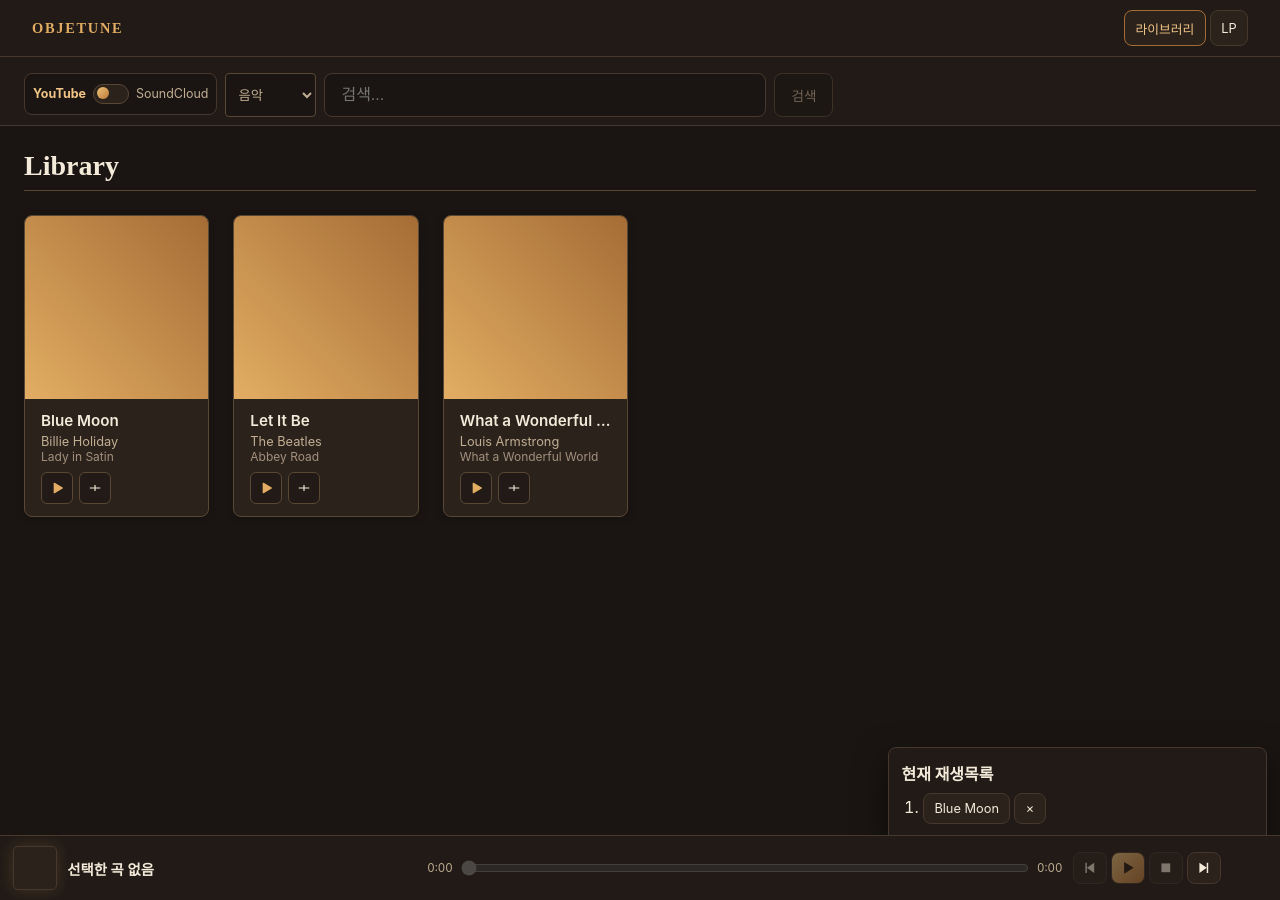
Scenario: App › shows queued tracks from the bottom button and keeps the queue across modes
Earlier steps of the test are not shown.
expect the element "현재 재생목록" is shown: met, box top-left (888, 747), bottom-right (1267, 846)
Click the button "LP": (1229, 28) top-left (1210, 10), bottom-right (1248, 46)
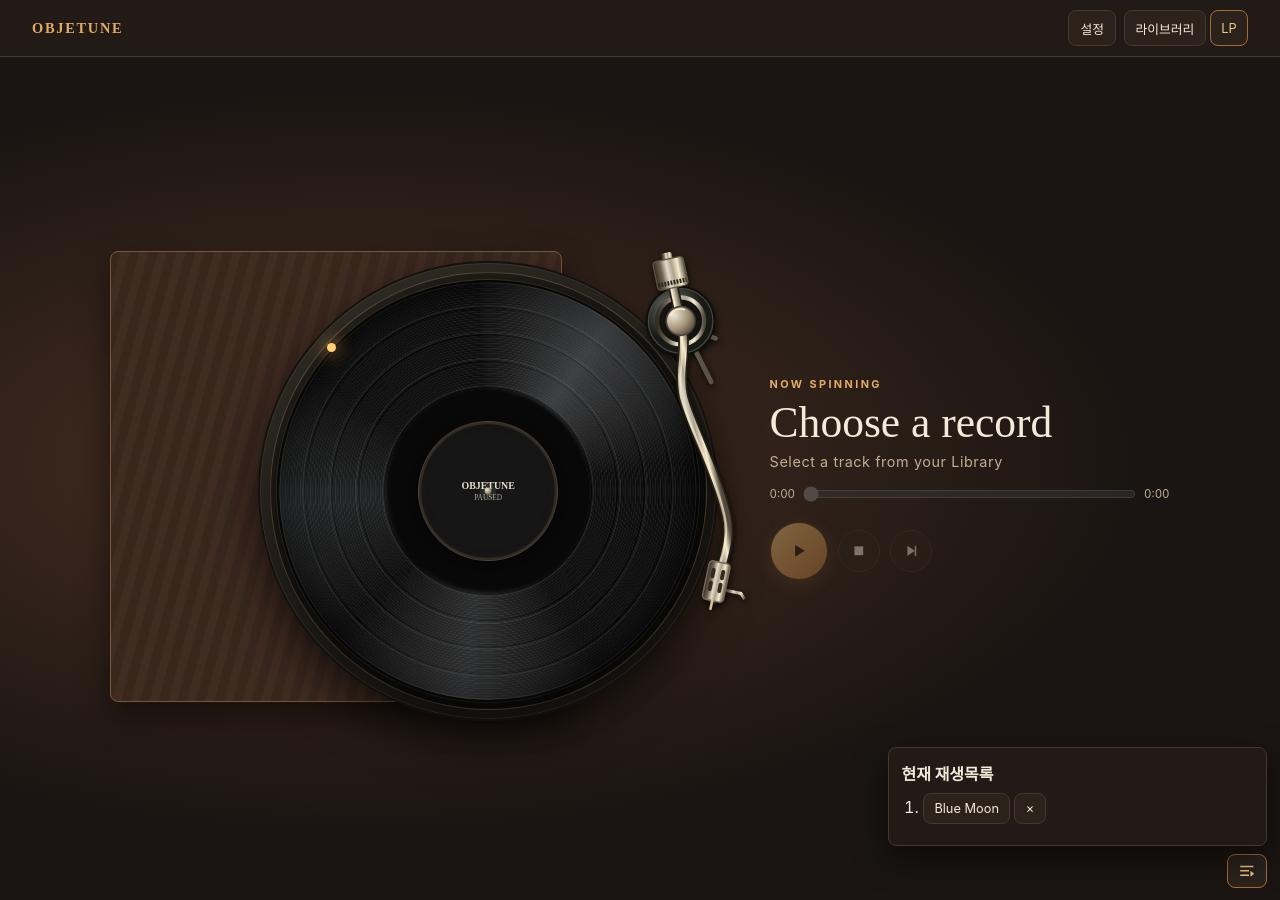
expect the element named "Turntable" is shown: met
Click the button named "Blue Moon 대기열에서 제거": (1030, 809) top-left (1014, 793), bottom-right (1046, 824)
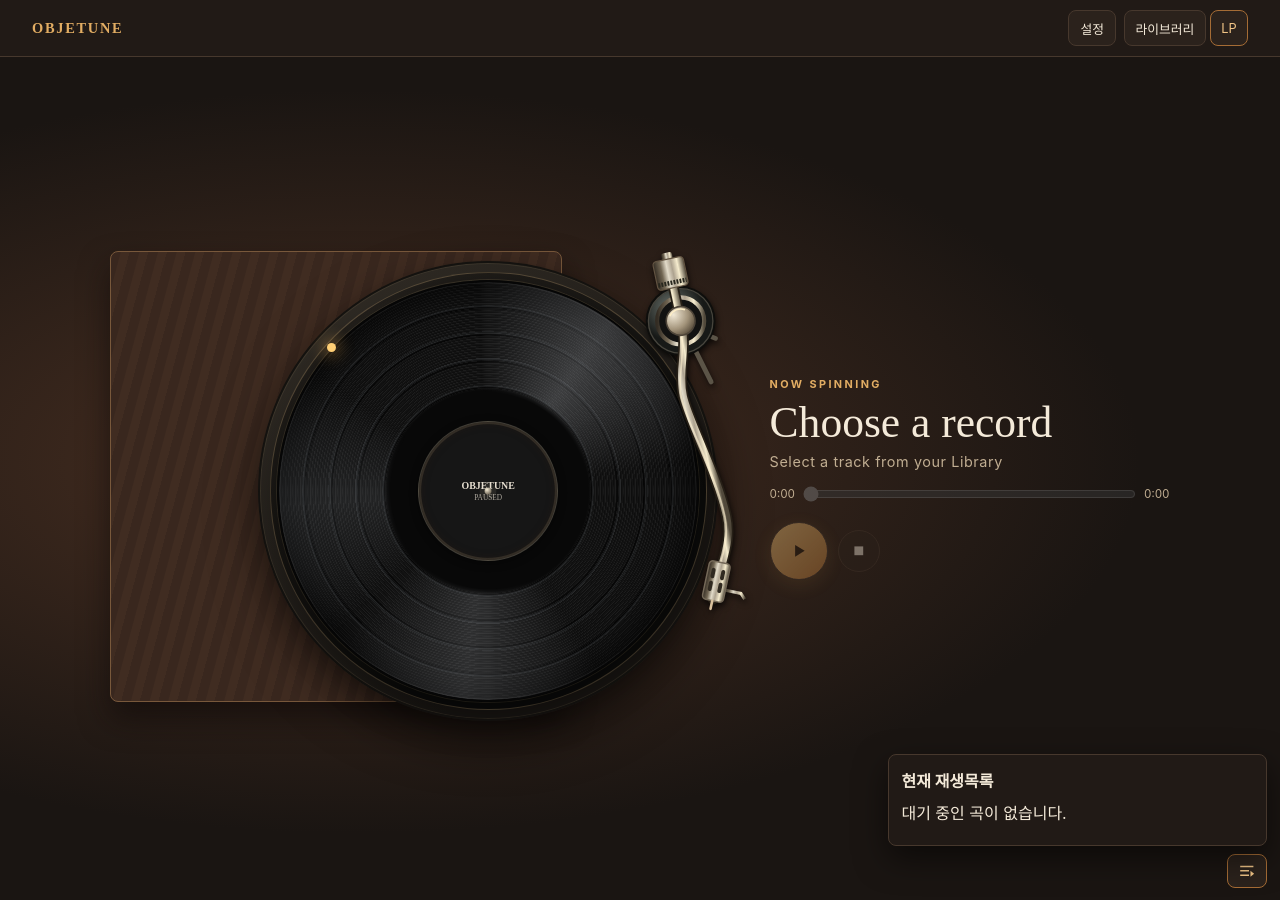
expect the text "대기 중인 곡이 없습니다." is shown: met, box top-left (901, 803), bottom-right (1067, 823)
